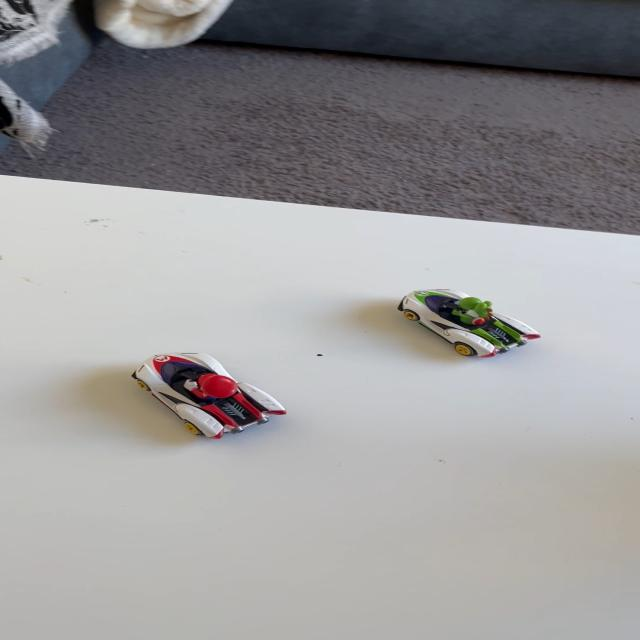mario: (113, 342, 305, 452)
yoshi: (378, 282, 556, 373)
